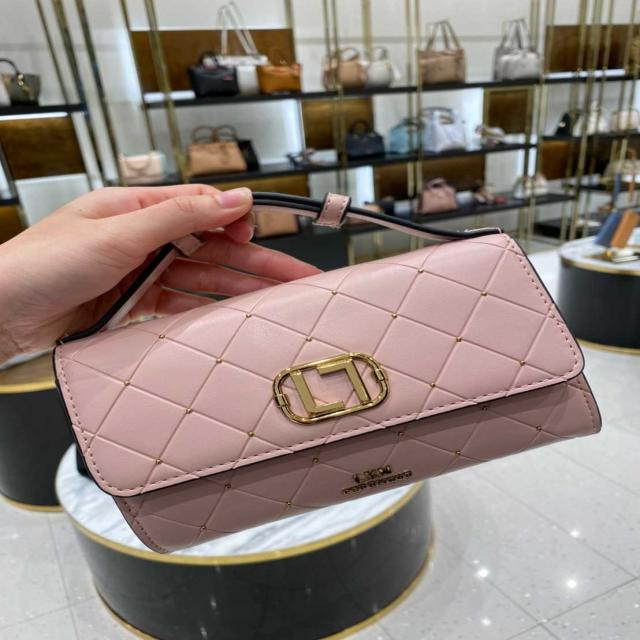Handbag: (44, 224, 606, 556)
